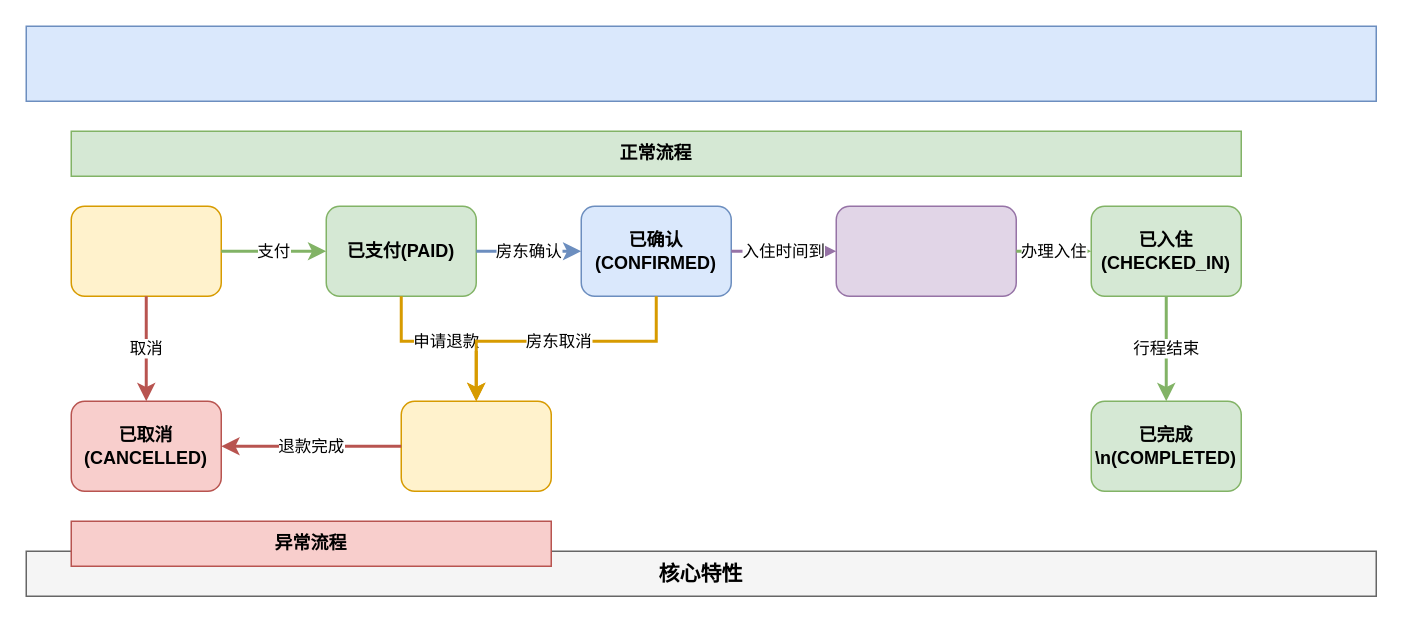
Image size: 1403x623. Some labels were removed from this diagram. The shapes that lost their labels are listed below. From the top down, each one's centre as x and y in pixels, then its label:
[700,63]: 严谨的订单状态机 - 8个状态 · 12种转换 · 100%业务覆盖
[145,250]: 未支付(UNPAID)
[925,250]: 准备入住(READY_FOR_CHECKIN)
[475,445]: 退款中(REFUNDING)
